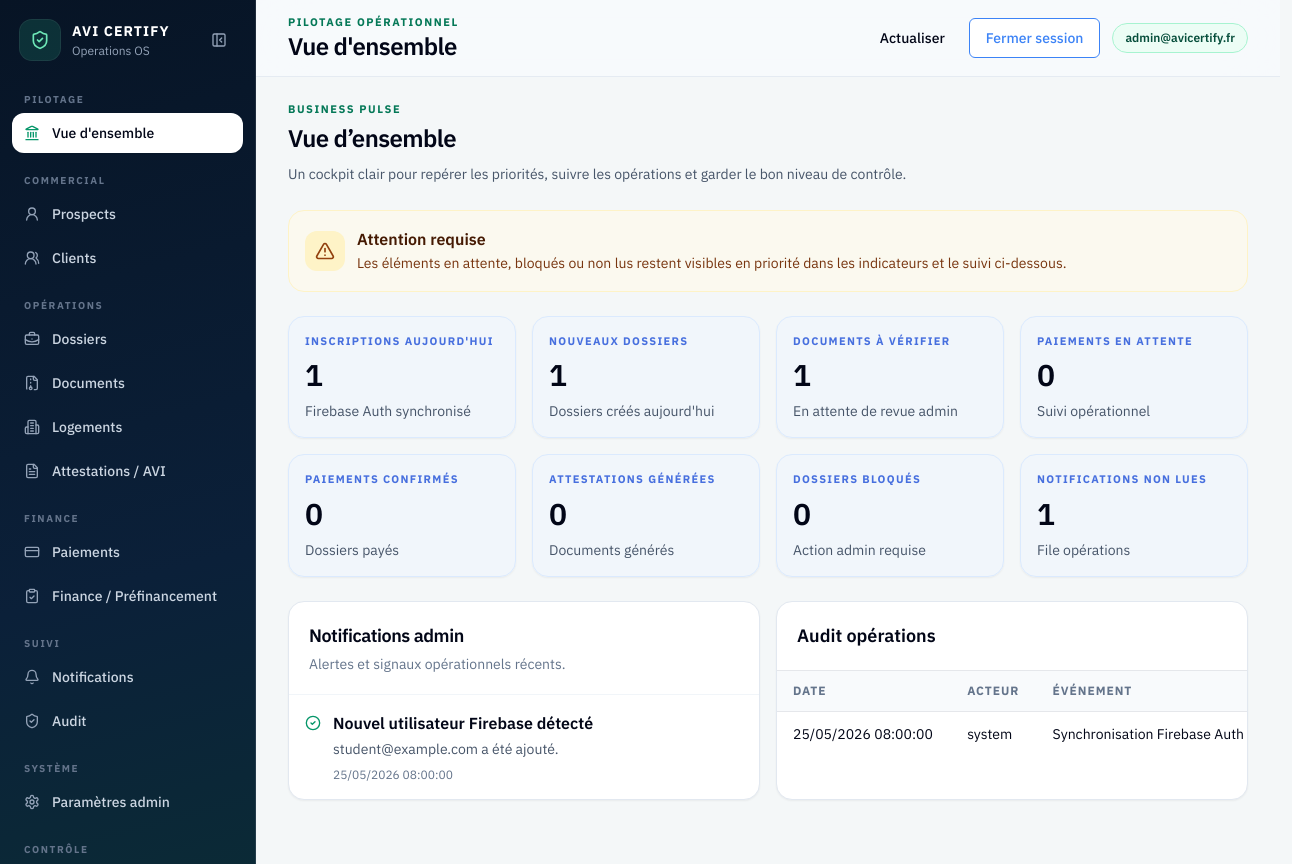
Test: SuperAdminOperationsOS › keeps an unresolved document owner explicit and downloadable
Step 1. Click the button "Documents" → (128,383), box [12,363,243,403]
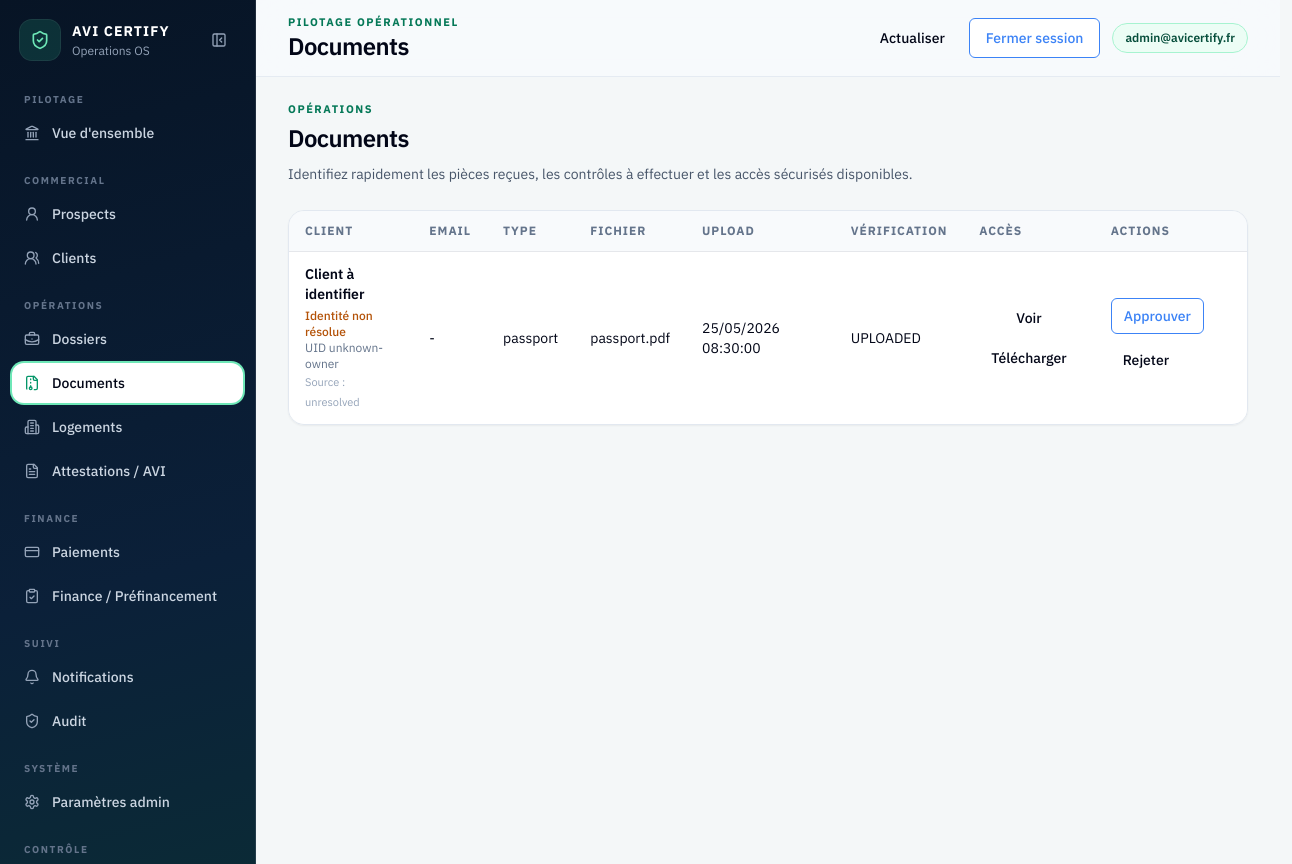
expect the text "Client à identifier" is shown: met, box [305,264,364,302]
expect the text "UID unknown-owner" is shown: met, box [305,340,383,370]
expect the button "Télécharger" is enabled: met, box [979,340,1079,376]
